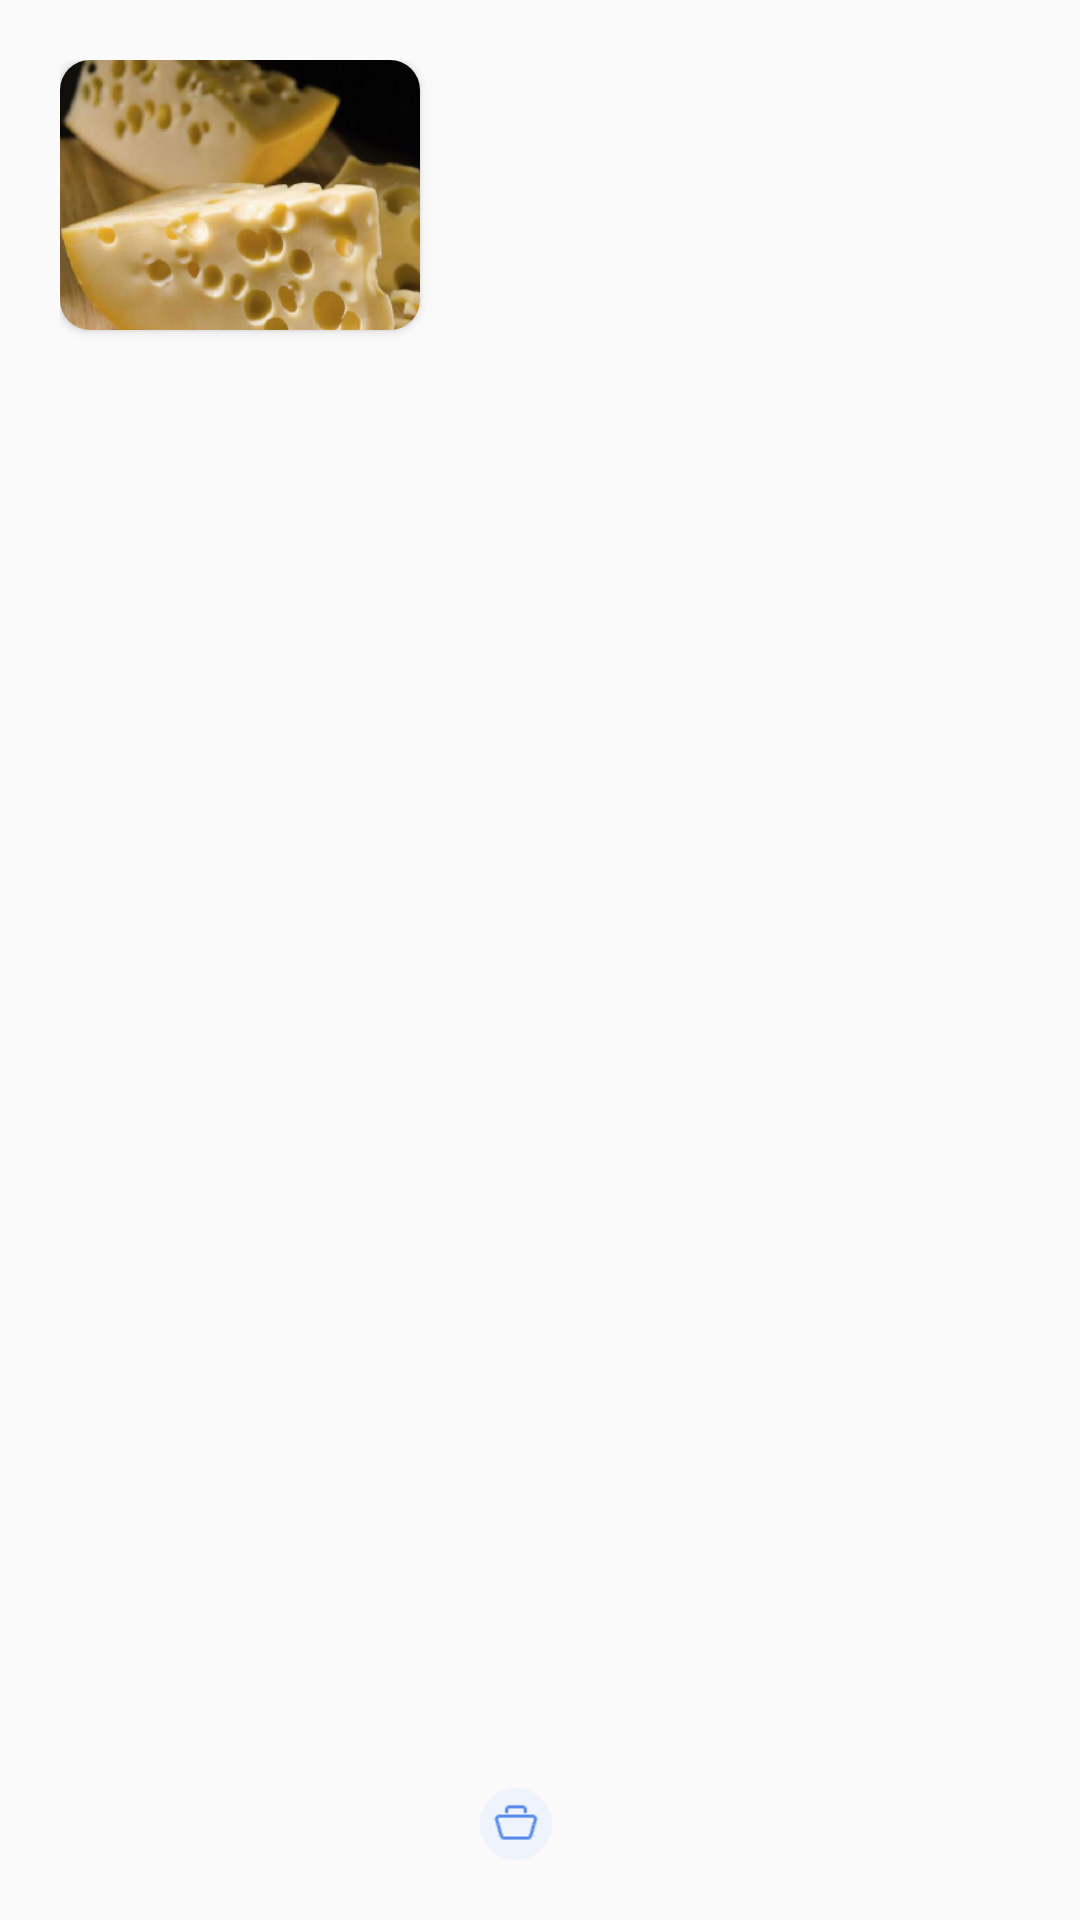

Where icons sit on this 1080w x 1920h app screen, as BBox(x1, y1, x2, y2):
basket: BBox(480, 1788, 552, 1860)
